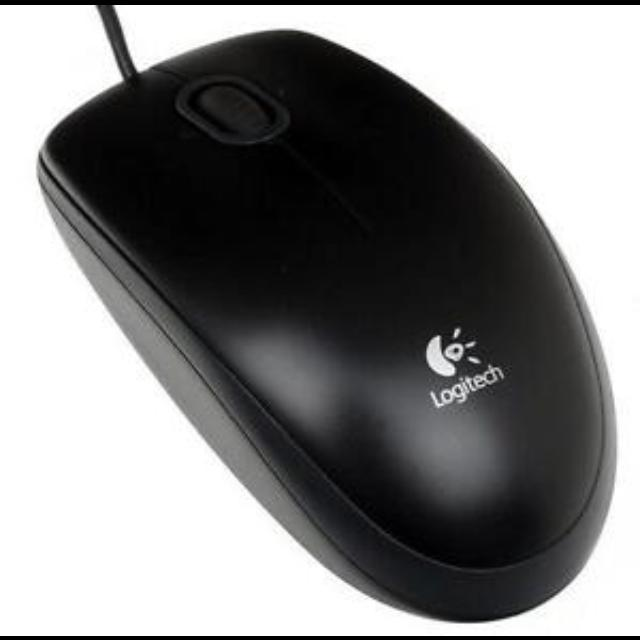Computer-Mouse: (41, 27, 619, 623)
